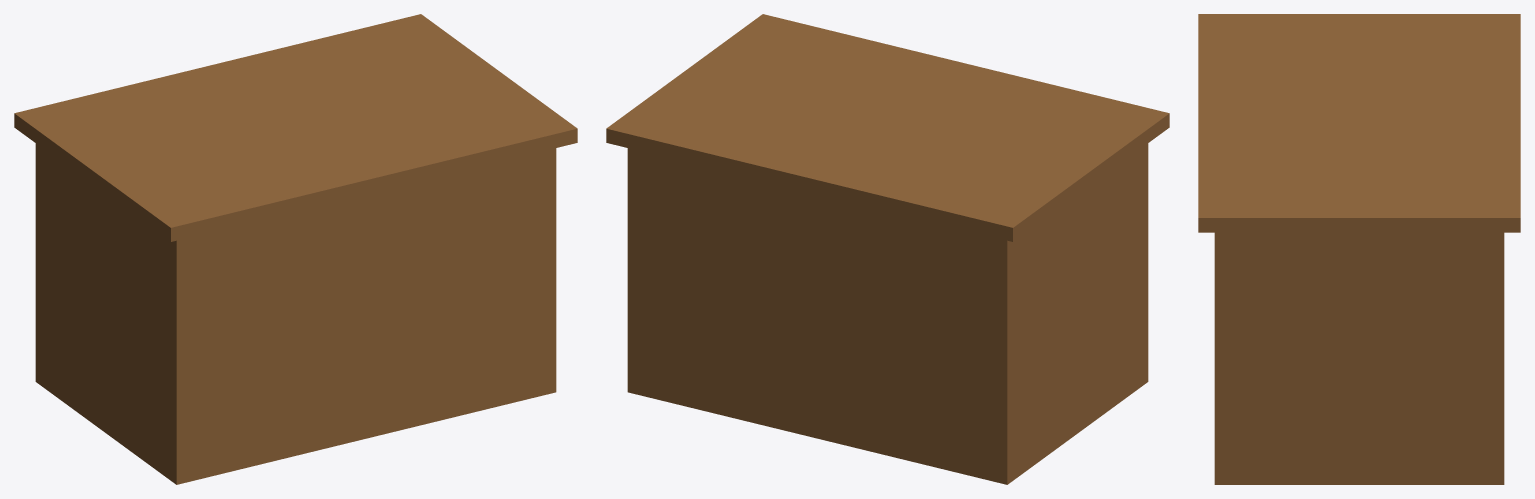
File: table.obj
The picture shows the model from 3 angles, left to right: view 1: azimuth 30°, elevation 25°; view 2: azimuth 150°, elevation 25°; view 3: azimuth 270°, elevation 25°; orthographic projection. The views are drawn at different scales.
Visible parts, largest first — view 1: Legs, Top; view 2: Legs, Top; view 3: Legs, Top.
Part boxes in pixels (x1=…): Legs: x1=35, y1=143, x2=556, y2=484; Top: x1=14, y1=14, x2=577, y2=241; Legs: x1=627, y1=143, x2=1148, y2=484; Top: x1=606, y1=14, x2=1169, y2=241; Legs: x1=1214, y1=232, x2=1504, y2=484; Top: x1=1198, y1=14, x2=1520, y2=232.
Bounding box in the file's own units: 120 × 75 × 80.
1 material, 1 textured.
